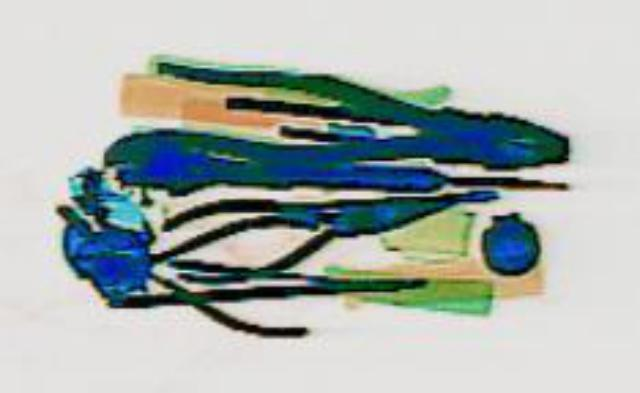Pliers: (120, 49, 586, 191), (143, 156, 513, 283), (90, 199, 332, 335)
